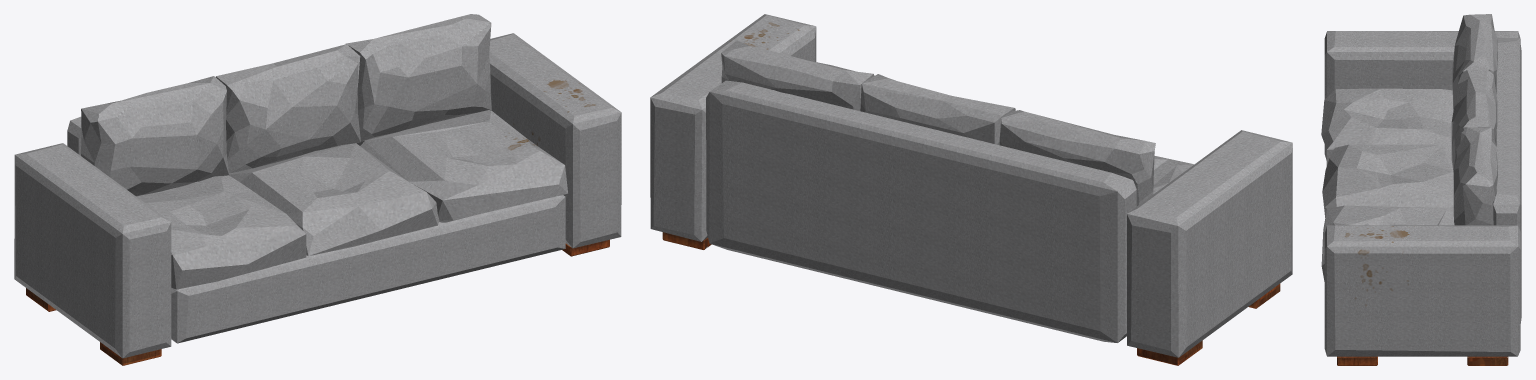
The model's file is sofa.glb.
The picture shows the model from 3 angles, left to right: view 1: azimuth 30°, elevation 25°; view 2: azimuth 150°, elevation 25°; view 3: azimuth 270°, elevation 25°; orthographic projection. The views are drawn at different scales.
Visible parts, largest first — view 1: Cube.001_low, Cube_low, Cube.006_low, Cube.003_low, Cube.009_low, Cube.007_low, Cube.008_low, Cube.005_low, Cube.004_low; view 2: Cube.002_low, Cube.001_low, Cube.007_low, Cube.009_low, Cube.008_low, Cube.004_low, Cube.005_low; view 3: Cube.001_low, Cube.003_low, Cube.005_low, Cube.002_low, Cube.008_low, Cube.009_low, Cube.006_low, Cube.007_low, Cube.004_low.
Boxes of the visible parts, x1,y1,x2,y2 form: Cube.001_low: (14,33,621,358); Cube_low: (171,195,565,343); Cube.006_low: (356,110,567,222); Cube.003_low: (229,143,439,256); Cube.009_low: (216,44,360,173); Cube.007_low: (81,76,228,196); Cube.008_low: (346,14,491,141); Cube.005_low: (136,175,306,289); Cube.004_low: (26,239,609,365); Cube.002_low: (706,80,1136,342); Cube.001_low: (650,14,1292,357); Cube.007_low: (999,110,1155,206); Cube.009_low: (860,74,1015,145); Cube.008_low: (721,40,874,110); Cube.004_low: (662,232,1280,365); Cube.005_low: (1153,155,1193,193); Cube.001_low: (1324,31,1520,356); Cube.003_low: (1322,144,1453,217); Cube.005_low: (1321,88,1453,165); Cube.002_low: (1493,38,1521,323); Cube.008_low: (1453,127,1497,225); Cube.009_low: (1451,69,1497,171); Cube.006_low: (1321,205,1454,281); Cube.007_low: (1452,14,1497,110); Cube.004_low: (1337,356,1508,365).
Size of the model in its own units: 2.52 by 0.8958 by 0.9803.
1 material, 1 textured.
